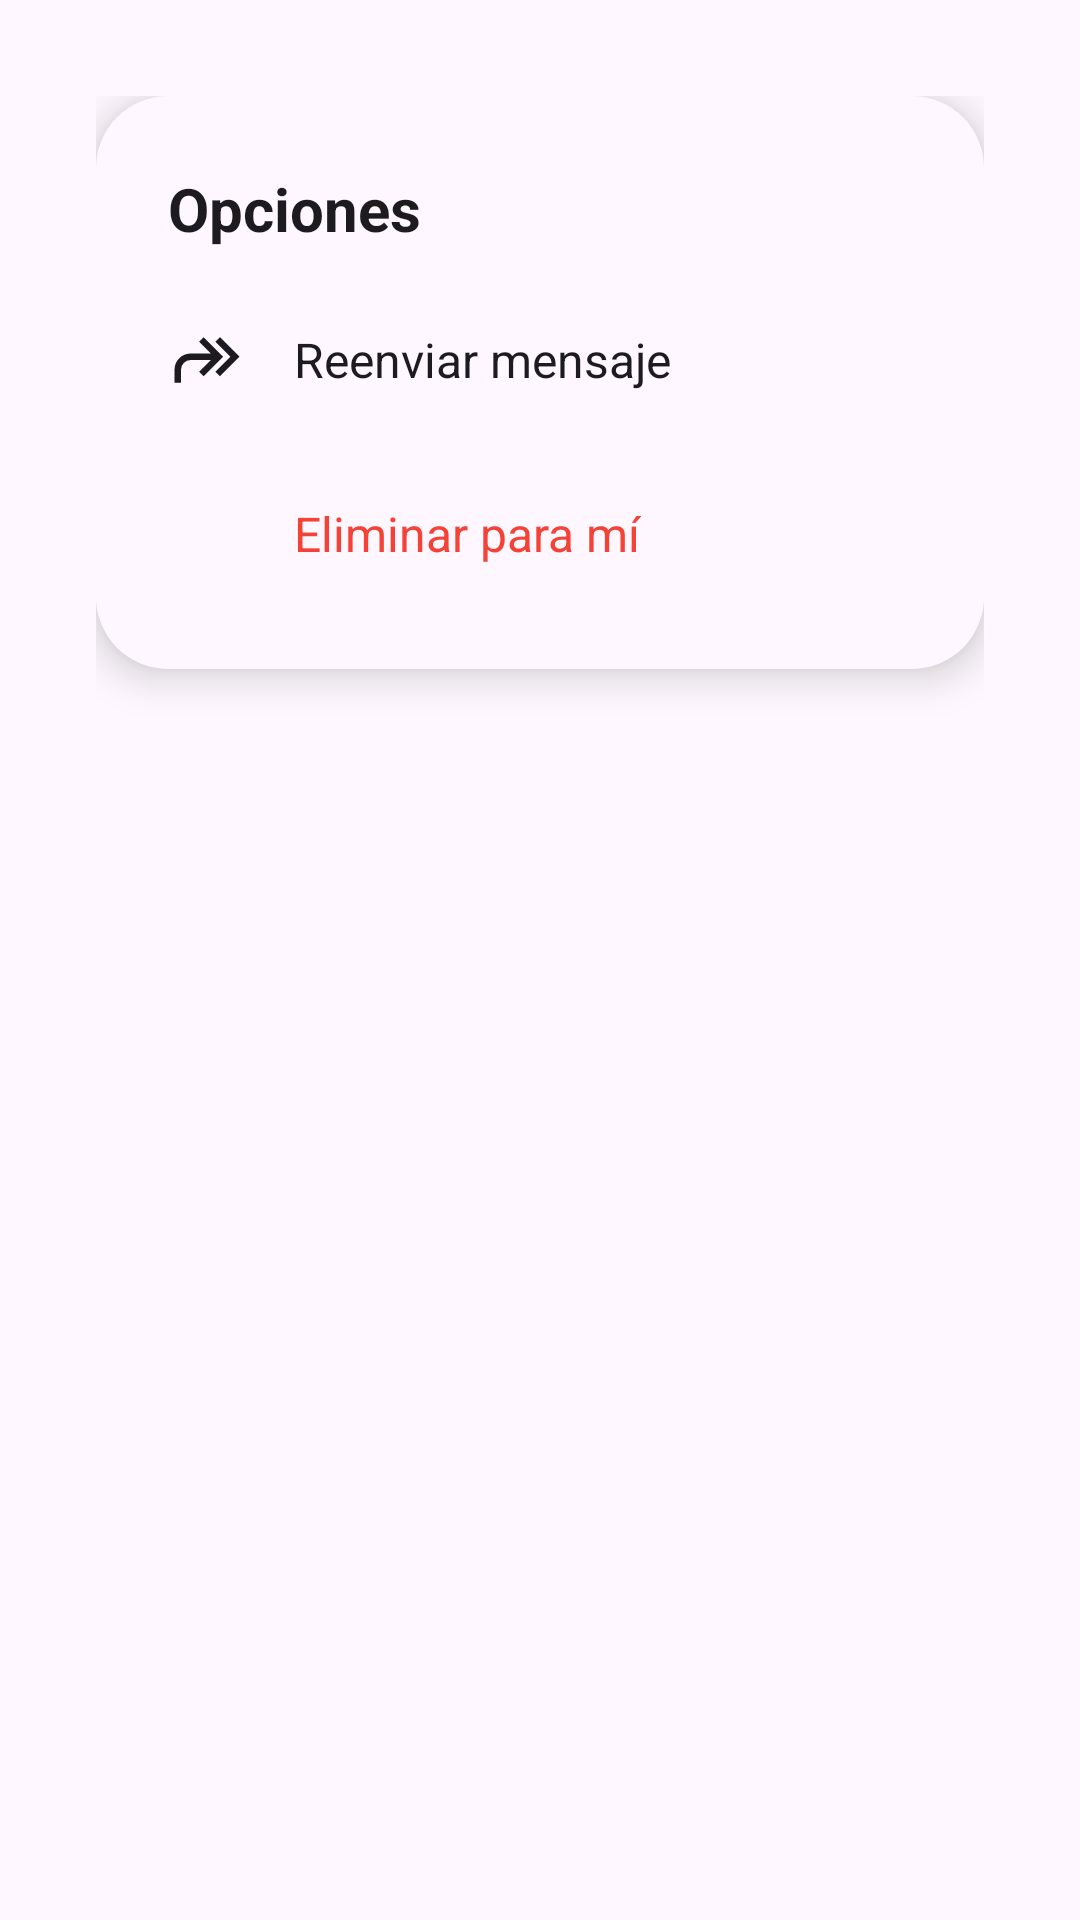

Icon bounding boxes for this 1080*1920 phone screenshot, format (x1, y1, x2, y2):
forward: (174, 337, 240, 383)
